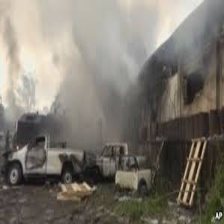smoke: (3, 2, 148, 151)
